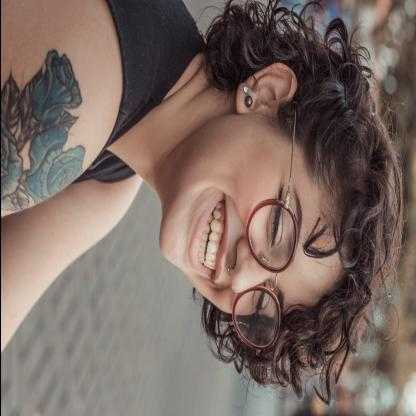Eye: (264, 187, 288, 252), (250, 282, 276, 320)
Mouth: (185, 191, 231, 289)
Nose: (228, 237, 268, 295)
